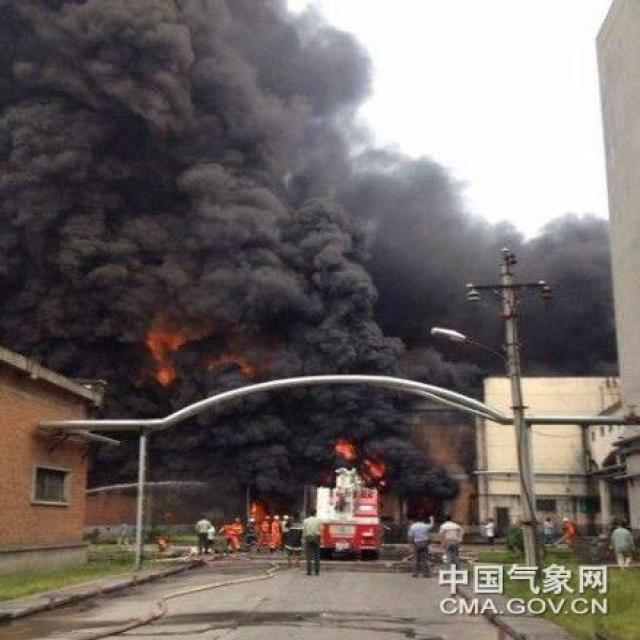smoke: (4, 0, 446, 476)
